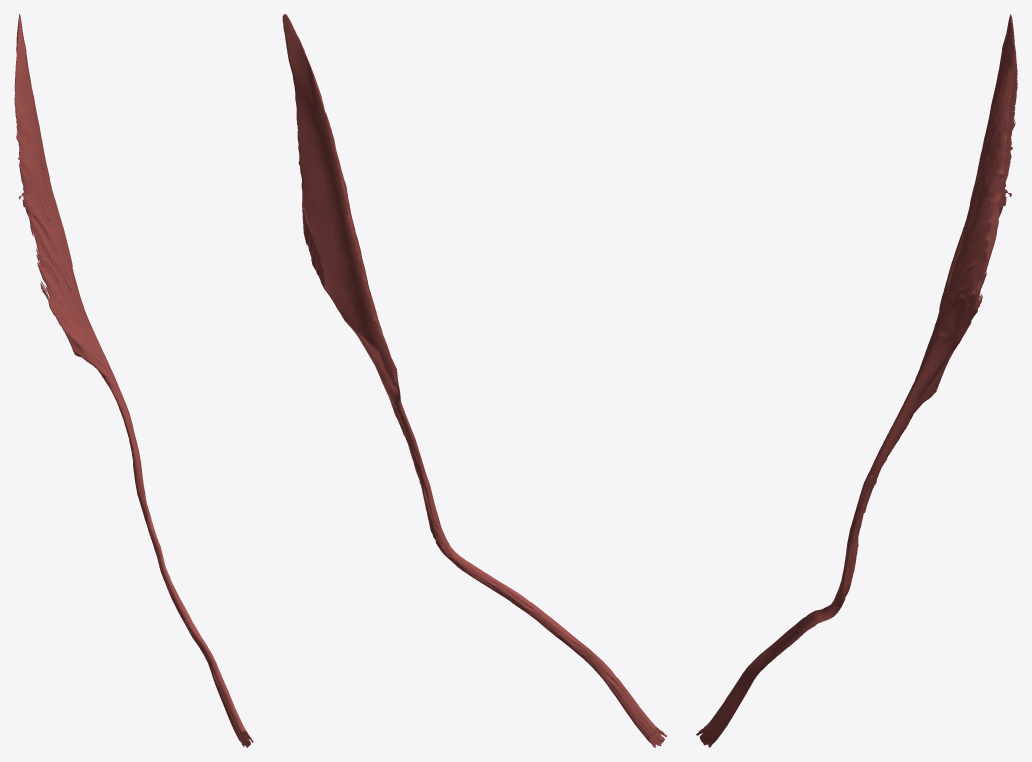
The model's file is FMA38482.glb.
3 renders of one model, left to right at view 1: azimuth 90°, elevation 25°; view 2: azimuth 150°, elevation 25°; view 3: azimuth 270°, elevation 25°, orthographic. The views are drawn at different scales.
Visible parts, largest first — view 1: FMA38482; view 2: FMA38482; view 3: FMA38482.
Boxes of the visible parts, x1,y1,x2,y2 form: FMA38482: (14, 14, 253, 747); FMA38482: (282, 14, 666, 747); FMA38482: (696, 14, 1017, 747).
Bounding box in the file's own units: 0.0756 × 0.2308 × 0.0783.
